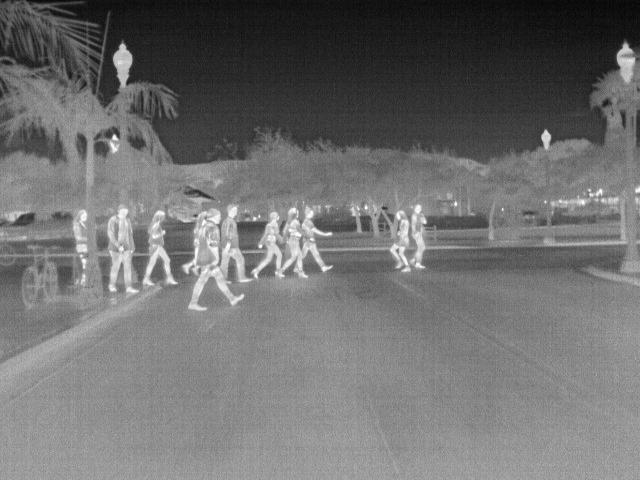person: (186, 207, 247, 311), (136, 209, 179, 287), (104, 206, 140, 294), (274, 207, 310, 278), (220, 205, 251, 283), (248, 211, 284, 278), (302, 206, 335, 272), (182, 210, 209, 275), (388, 207, 414, 273), (409, 201, 429, 267), (70, 204, 86, 284)
